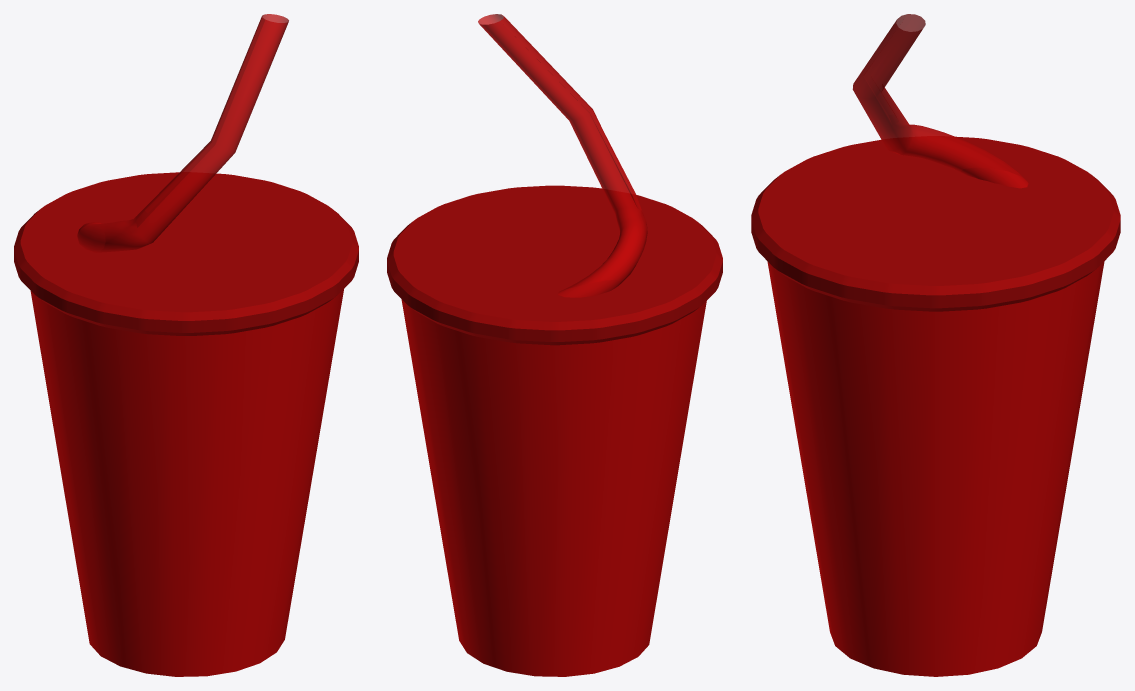
The model's file is prize5.fbx.
3 views of the same model, side by side, from view 1: azimuth 30°, elevation 25°; view 2: azimuth 150°, elevation 25°; view 3: azimuth 270°, elevation 25° (orthographic). The views are drawn at different scales.
Parts seen in each view (by area): view 1: pasted__pCylinder1, pasted__pCylinder2, pasted__pHelix1; view 2: pasted__pCylinder1, pasted__pCylinder2, pasted__pHelix1; view 3: pasted__pCylinder1, pasted__pCylinder2, pasted__pHelix1.
Boxes of the visible parts, x1,y1,x2,y2 form: pasted__pCylinder1: (30, 289, 343, 676); pasted__pCylinder2: (14, 172, 358, 335); pasted__pHelix1: (77, 14, 288, 252); pasted__pCylinder1: (401, 299, 706, 676); pasted__pCylinder2: (387, 185, 722, 345); pasted__pHelix1: (478, 14, 647, 297); pasted__pCylinder1: (767, 261, 1104, 676); pasted__pCylinder2: (751, 136, 1120, 311); pasted__pHelix1: (852, 14, 1028, 188).
Size of the model in its own units: 7.78 by 15.17 by 7.78.
